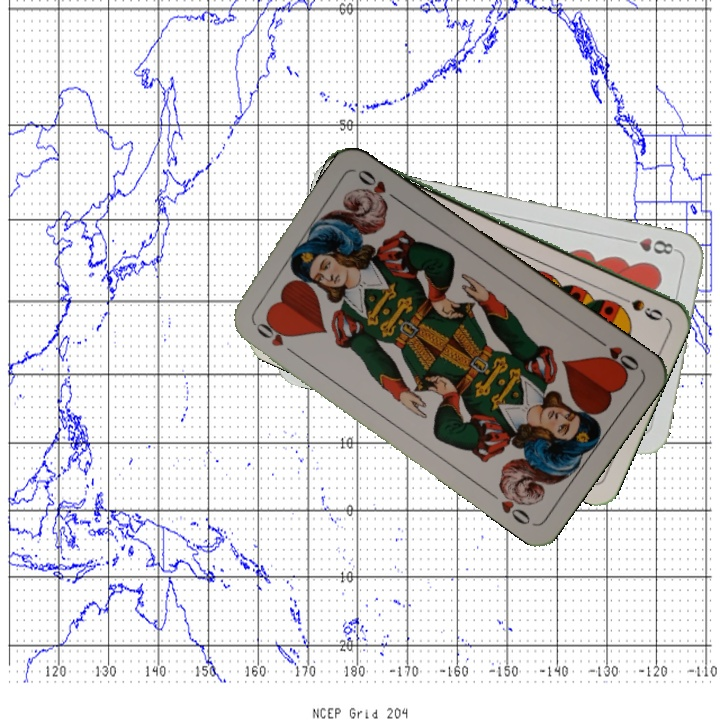H8: (621, 233, 680, 257)
HO: (592, 334, 642, 376), (248, 314, 295, 350)
S9: (611, 289, 666, 323)
